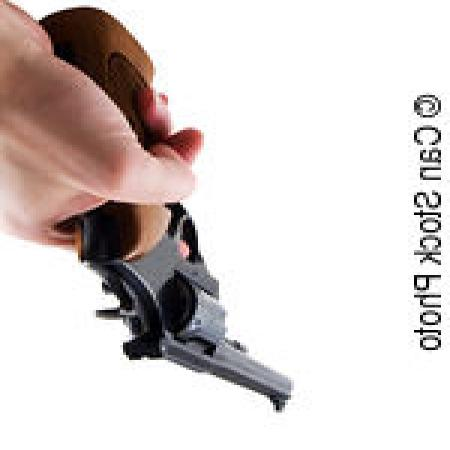Pistol: (27, 12, 291, 420)
